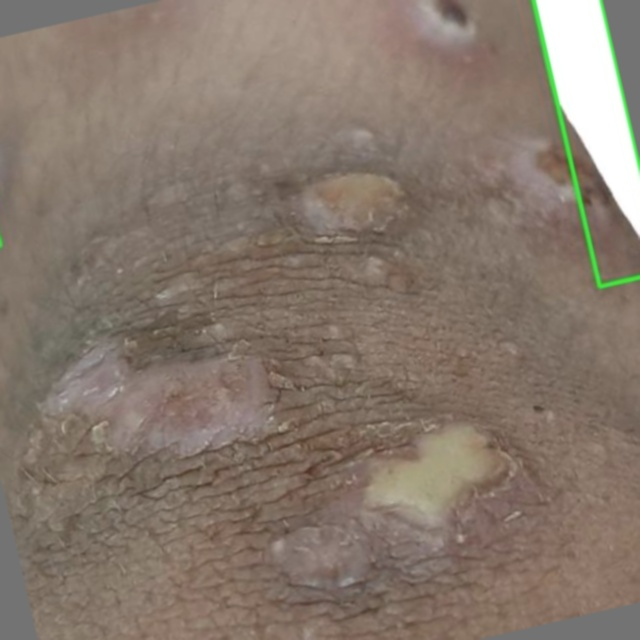Scabies: (533, 0, 639, 286)
